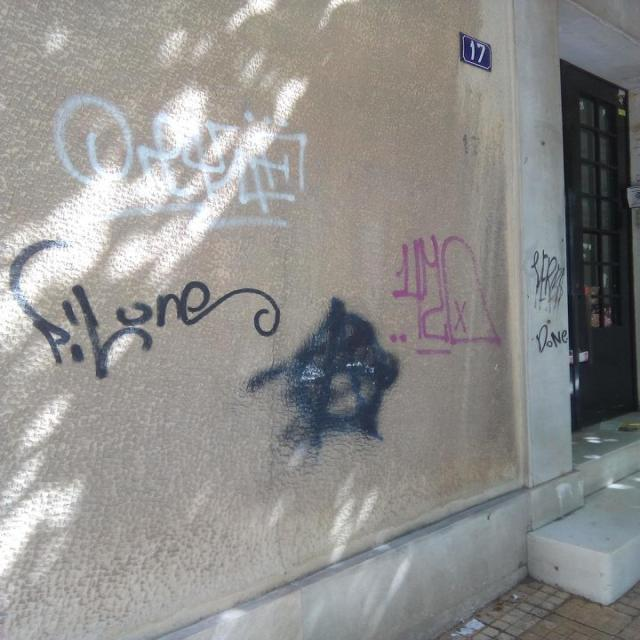nonspitting: (11, 238, 282, 378), (48, 89, 308, 232), (247, 297, 396, 453), (388, 234, 504, 358), (532, 248, 572, 352)
